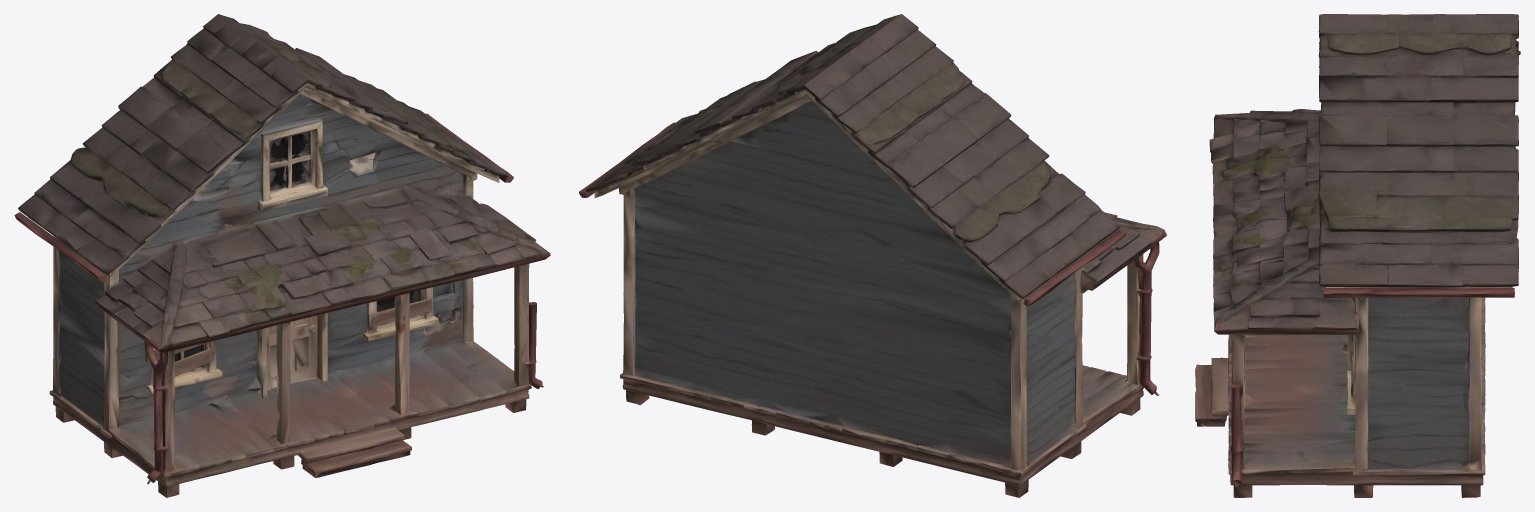
File: house_small_idle.glb
3 views of the same model, side by side, from view 1: azimuth 30°, elevation 25°; view 2: azimuth 150°, elevation 25°; view 3: azimuth 270°, elevation 25° (orthographic). The views are drawn at different scales.
Parts seen in each view (by area): view 1: tripo_node_7f5da6d3-1970-4c24-a91c-d6d60cedc509; view 2: tripo_node_7f5da6d3-1970-4c24-a91c-d6d60cedc509; view 3: tripo_node_7f5da6d3-1970-4c24-a91c-d6d60cedc509.
Boxes of the visible parts, x1,y1,x2,y2 form: tripo_node_7f5da6d3-1970-4c24-a91c-d6d60cedc509: (14,14,550,497); tripo_node_7f5da6d3-1970-4c24-a91c-d6d60cedc509: (579,14,1166,497); tripo_node_7f5da6d3-1970-4c24-a91c-d6d60cedc509: (1195,14,1520,497).
Bounding box in the file's own units: 7.99 × 6.4 × 4.87.
Materials: 1 (1 with a texture image).
